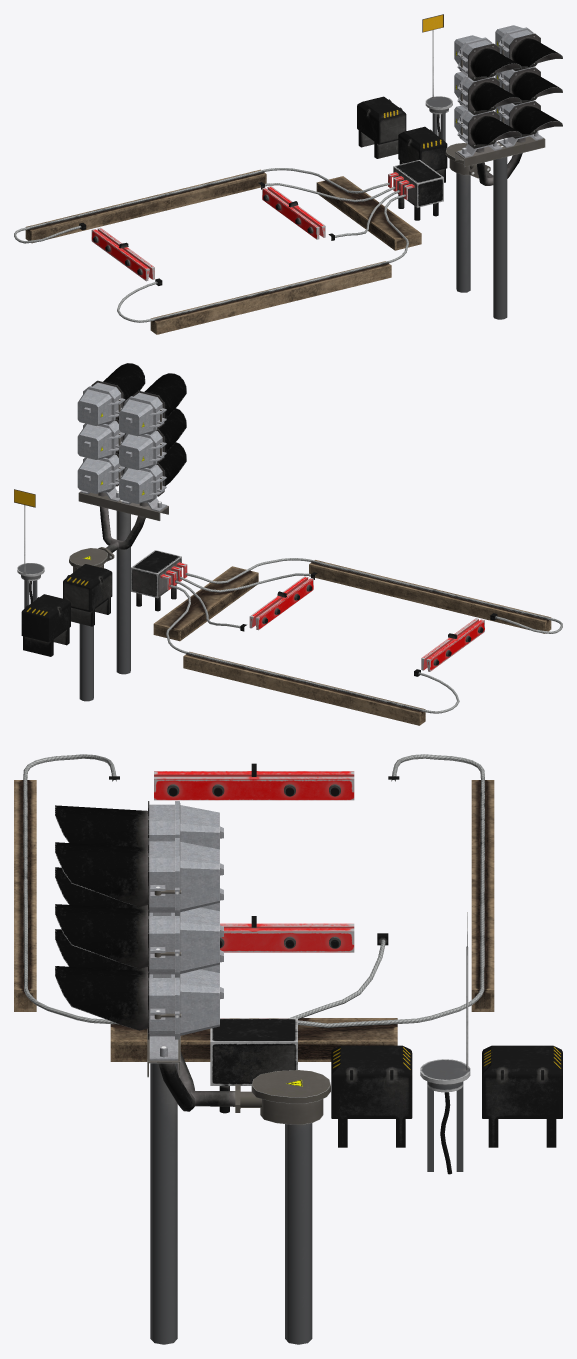
File: RM_sig_P_KM1_YGY+WxR_3+3_rout.gltf
3 views of the same model, one above another, from view 1: azimuth 30°, elevation 25°; view 2: azimuth 150°, elevation 25°; view 3: azimuth 270°, elevation 25° (orthographic). The views are drawn at different scales.
Parts seen in each view (by area): view 1: Изостык, Светофор 3+3; view 2: Изостык, Светофор 3+3; view 3: Светофор 3+3, Изостык.
Boxes of the visible parts, x1=… form: Изостык: x1=14, y1=14, x2=452, y2=334; Светофор 3+3: x1=445, y1=25, x2=562, y2=319; Изостык: x1=14, y1=489, x2=562, y2=725; Светофор 3+3: x1=69, y1=363, x2=186, y2=701; Светофор 3+3: x1=55, y1=801, x2=330, y2=1344; Изостык: x1=14, y1=754, x2=562, y2=1174.
Bounding box in the file's own units: 4.18 × 2.5 × 2.43.
2 materials, 2 textured.
